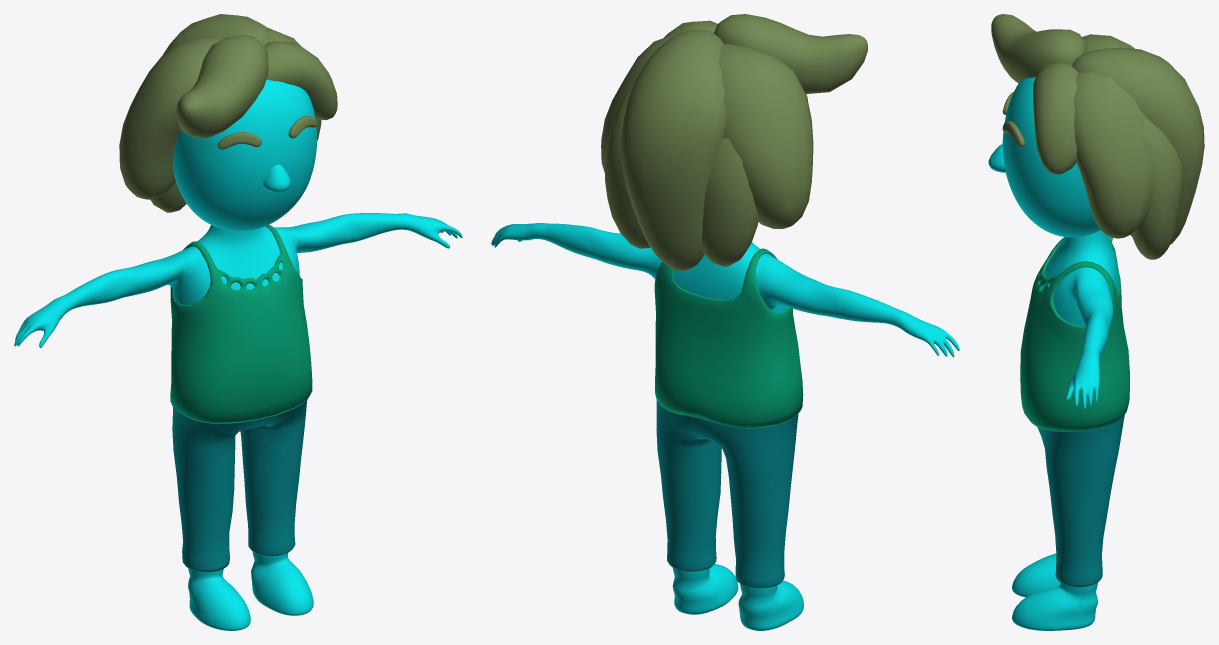
Rendered from uploads_files_2551386_medusa.fbx.
3 renders of one model, left to right at view 1: azimuth 30°, elevation 25°; view 2: azimuth 150°, elevation 25°; view 3: azimuth 270°, elevation 25°, orthographic. The views are drawn at different scales.
Parts seen in each view (by area): view 1: vucut, sac, dantelli, Pantolon1low; view 2: sac, dantelli, Pantolon1low, vucut; view 3: sac, vucut, dantelli, Pantolon1low.
Boxes of the visible parts, bbox=[...] form: vucut: bbox=[14, 79, 462, 630]; sac: bbox=[119, 14, 337, 212]; dantelli: bbox=[170, 224, 312, 423]; Pantolon1low: bbox=[172, 400, 307, 571]; sac: bbox=[601, 14, 867, 271]; dantelli: bbox=[654, 248, 803, 428]; Pantolon1low: bbox=[656, 400, 798, 588]; vucut: bbox=[491, 223, 959, 630]; sac: bbox=[991, 14, 1204, 259]; vucut: bbox=[988, 77, 1118, 630]; dantelli: bbox=[1020, 237, 1129, 431]; Pantolon1low: bbox=[1037, 415, 1124, 587].
Size of the model in its own units: 7.11 by 8.71 by 2.99.
